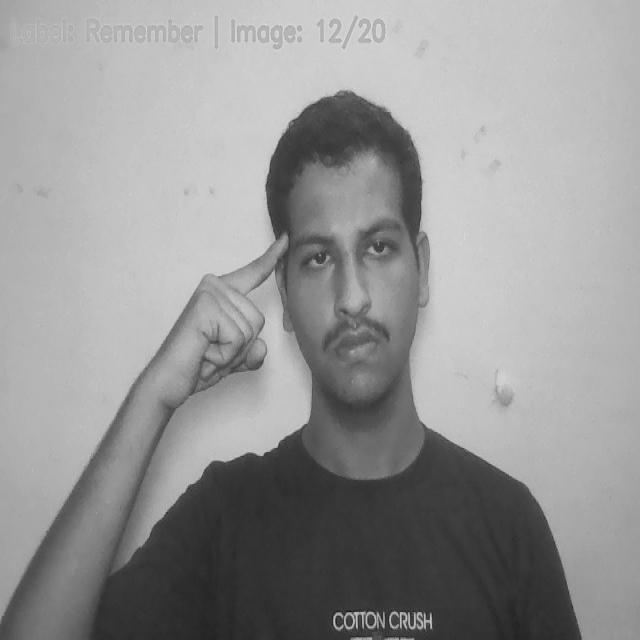Remember: (133, 236, 290, 412)
